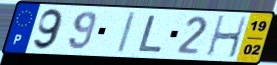2: (174, 15, 209, 56)
9: (32, 8, 66, 51), (67, 10, 99, 52)
H: (205, 14, 249, 60)
I: (115, 11, 138, 55)
L: (136, 14, 165, 54)
